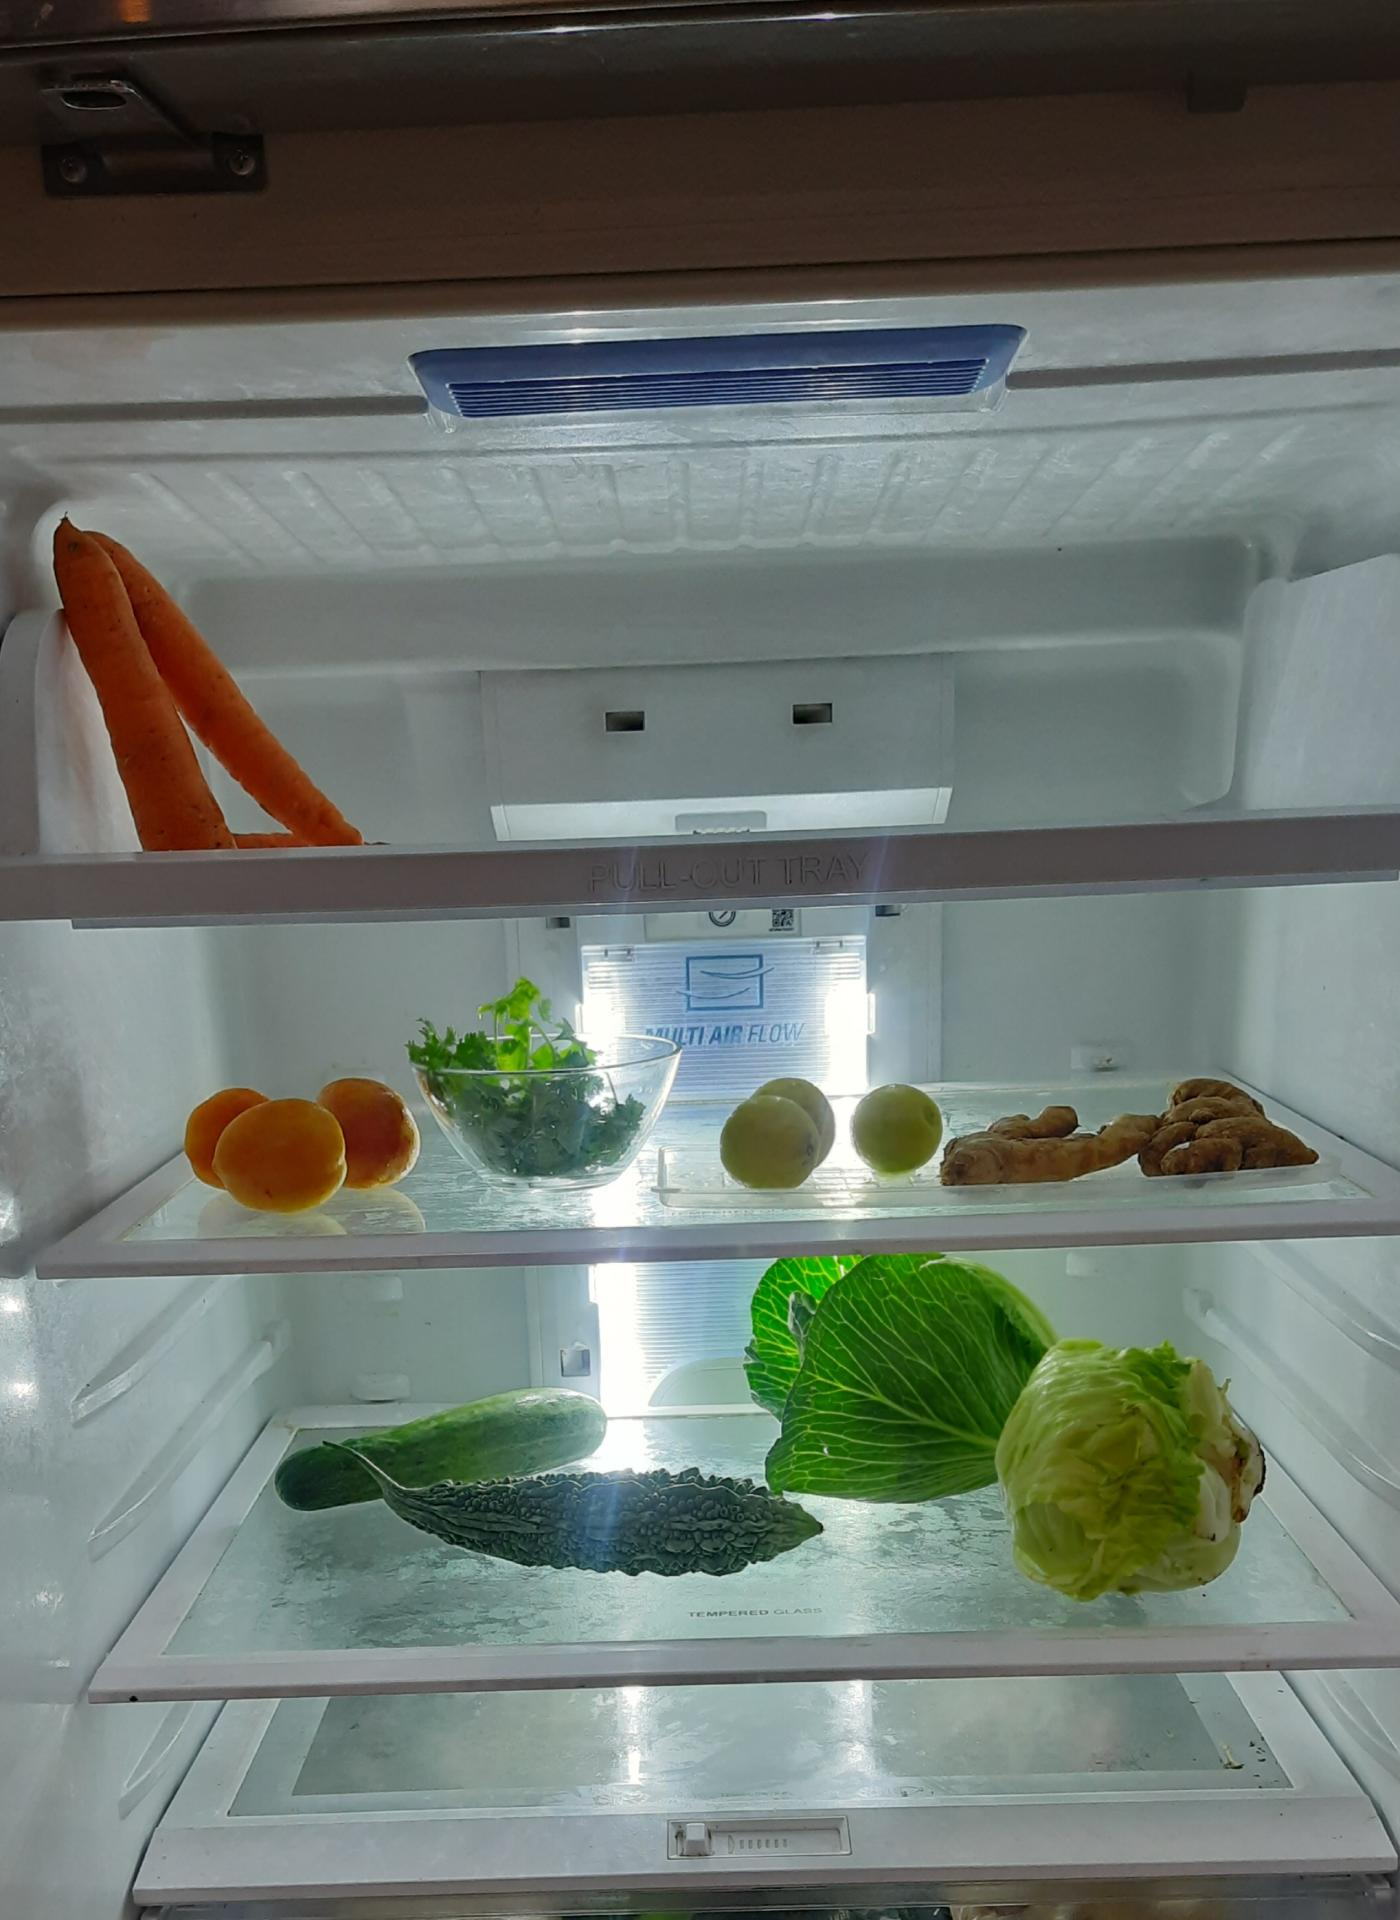bitter gourd: (319, 1459, 839, 1582)
cabbage: (748, 1252, 1057, 1500)
carrots: (43, 517, 364, 860)
coriander: (419, 1003, 647, 1182)
cucumber: (258, 1392, 632, 1506)
ginger: (936, 1084, 1324, 1193)
lemon: (717, 1066, 838, 1193), (851, 1082, 950, 1184)
lettuce: (1003, 1337, 1270, 1601)
tomato: (180, 1069, 423, 1204)
